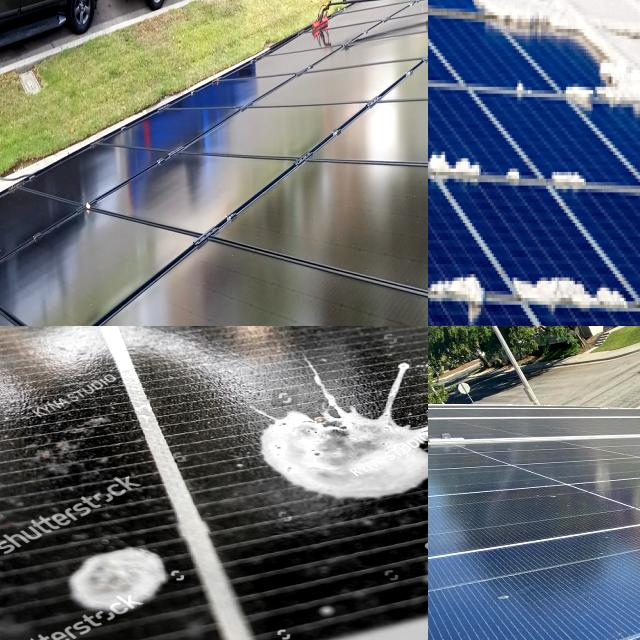bird: (196, 344, 428, 504), (50, 516, 182, 628), (201, 326, 385, 352), (91, 326, 215, 349)
dust: (428, 540, 559, 640)
panel: (551, 12, 640, 151), (503, 255, 632, 325), (428, 175, 480, 326), (428, 142, 583, 191), (524, 0, 640, 56), (428, 26, 460, 164), (428, 0, 514, 50), (428, 263, 491, 326), (428, 242, 475, 320), (428, 28, 465, 98), (428, 117, 466, 184), (428, 0, 481, 39), (471, 0, 524, 31), (428, 0, 451, 54)
